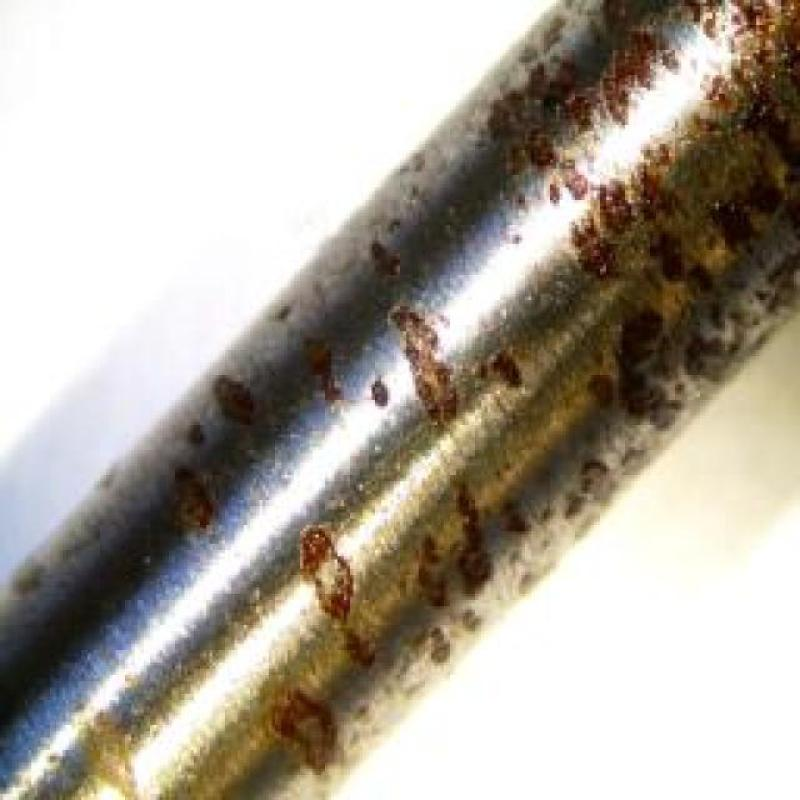corrosion: (548, 8, 666, 113), (393, 308, 468, 433), (297, 530, 372, 625), (158, 493, 276, 552), (211, 366, 283, 450), (610, 321, 663, 406), (593, 190, 665, 235)
